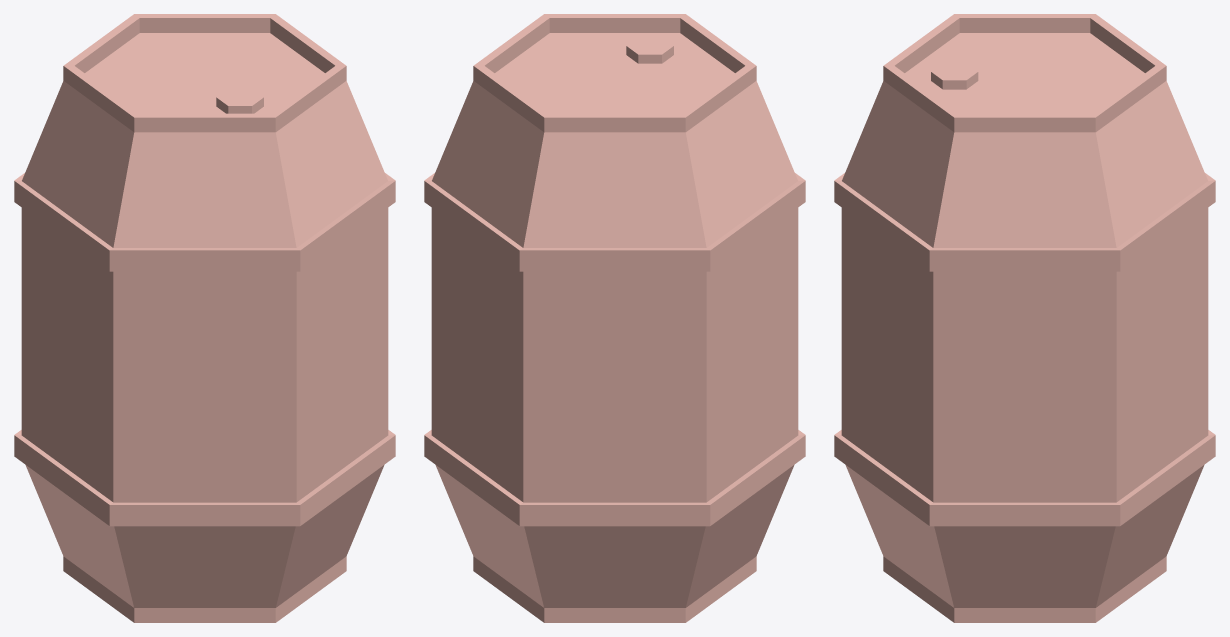
The model's file is Mega_Asset_s_Pack_Cylinder_037.FBX.
The picture shows the model from 3 angles, left to right: view 1: azimuth 30°, elevation 25°; view 2: azimuth 150°, elevation 25°; view 3: azimuth 270°, elevation 25°; orthographic projection.
Parts seen in each view (by area): view 1: Mega_Asset_s_Pack_Cylinder_037; view 2: Mega_Asset_s_Pack_Cylinder_037; view 3: Mega_Asset_s_Pack_Cylinder_037.
Boxes of the visible parts, box(x1,y1,x2,y2) form: Mega_Asset_s_Pack_Cylinder_037: box(14, 14, 395, 622); Mega_Asset_s_Pack_Cylinder_037: box(424, 14, 805, 622); Mega_Asset_s_Pack_Cylinder_037: box(834, 14, 1215, 622).
Size of what is drawn, in the model's own units: 108 by 124 by 182.
